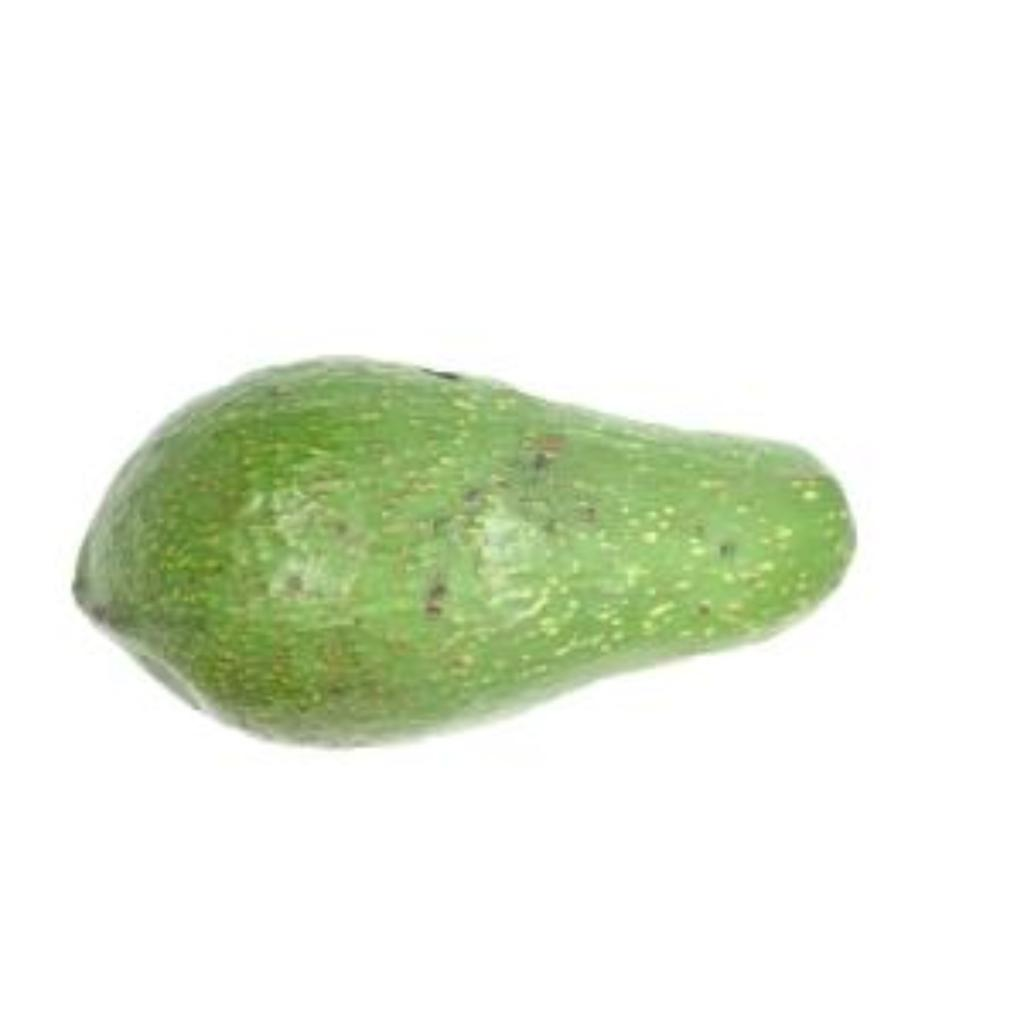cercospora: (46, 324, 886, 754)
